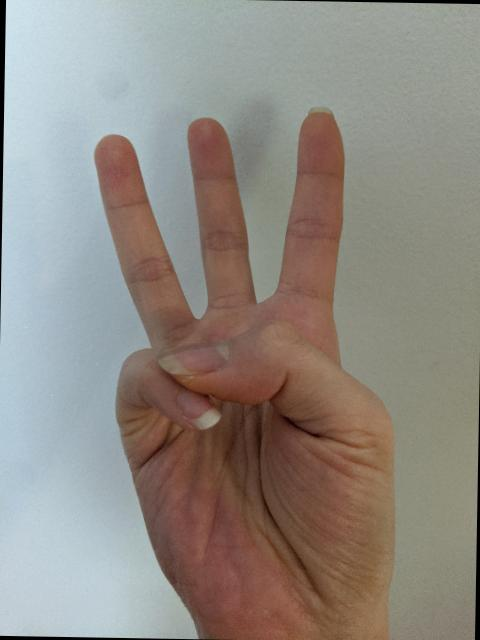W: (76, 97, 410, 640)
